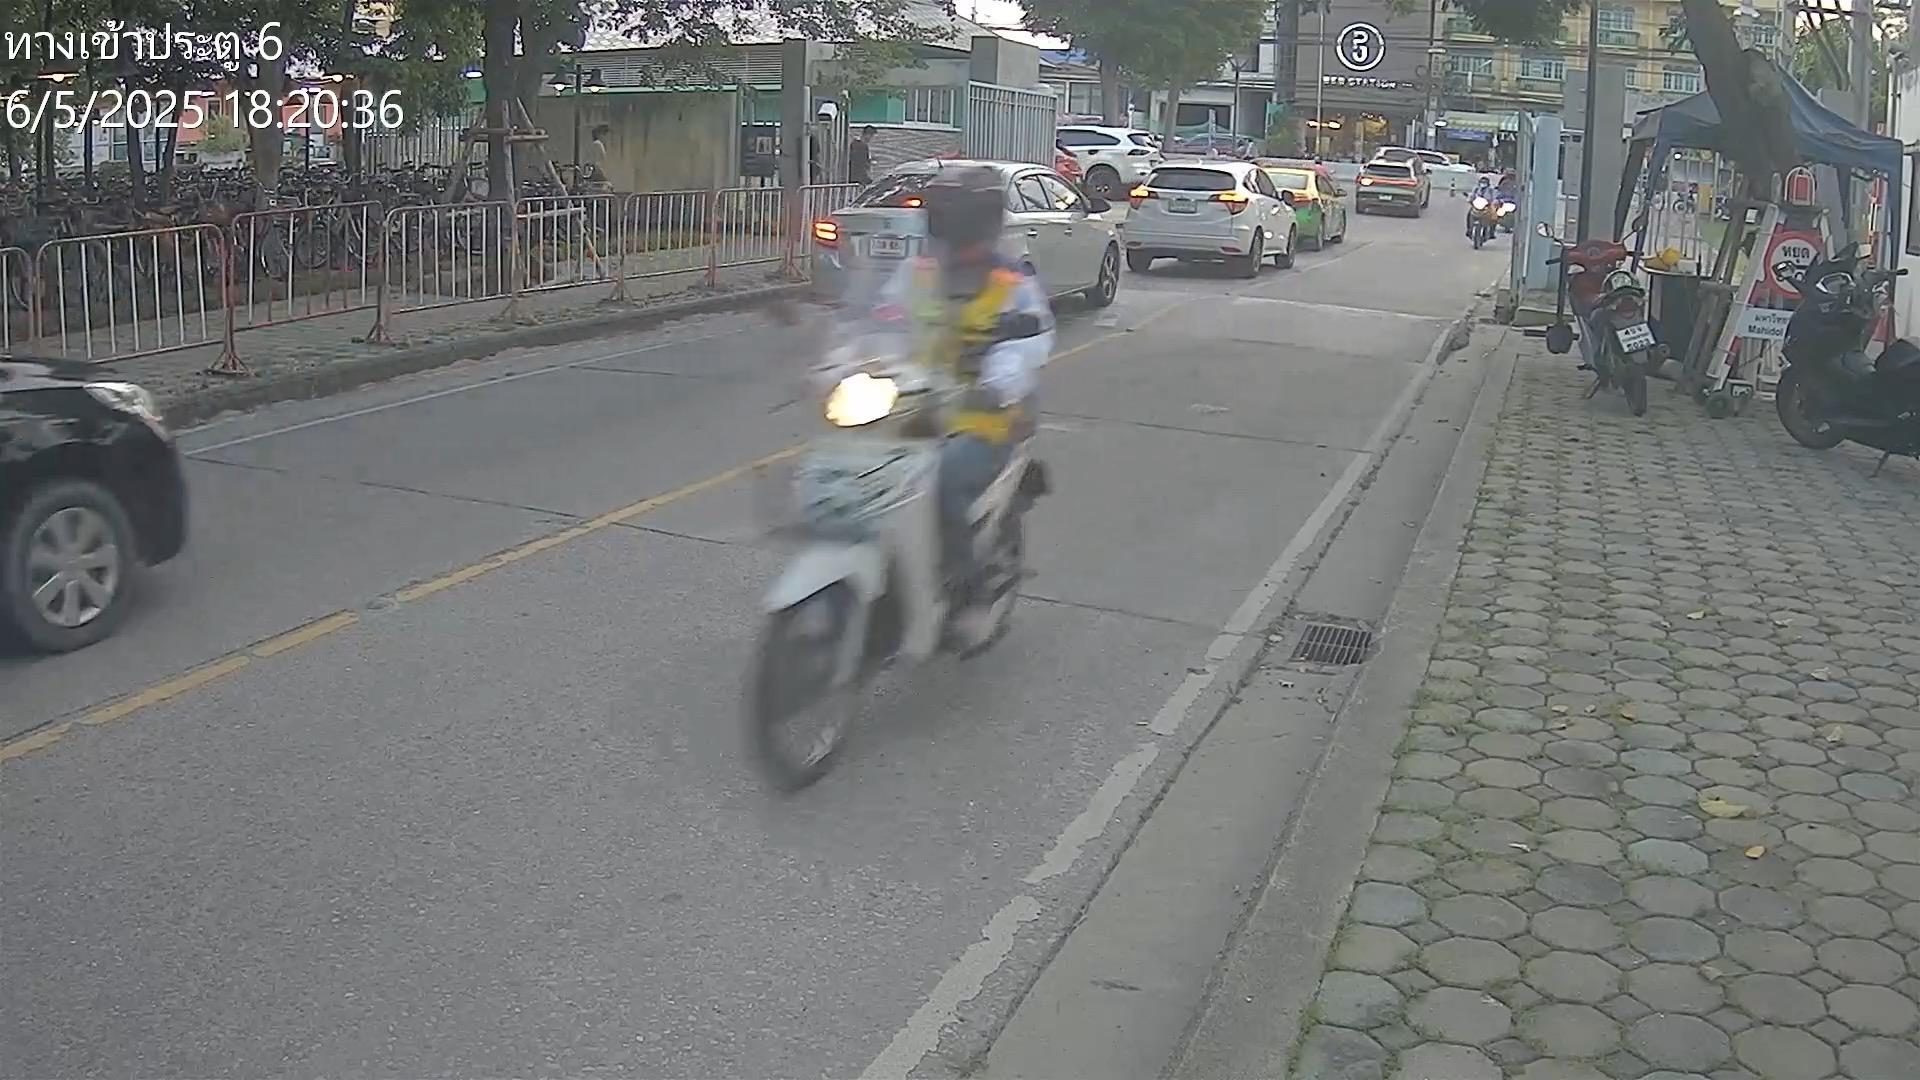With-Helmet: (920, 162, 1010, 258)
